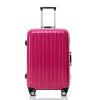luggage: (24, 6, 72, 100)
